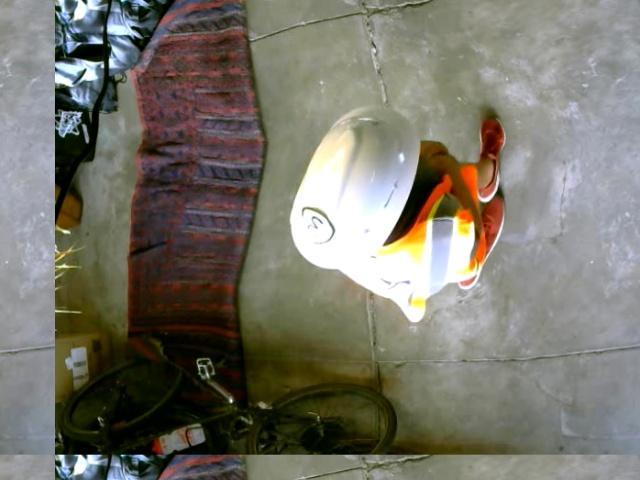three: (293, 207, 338, 243)
